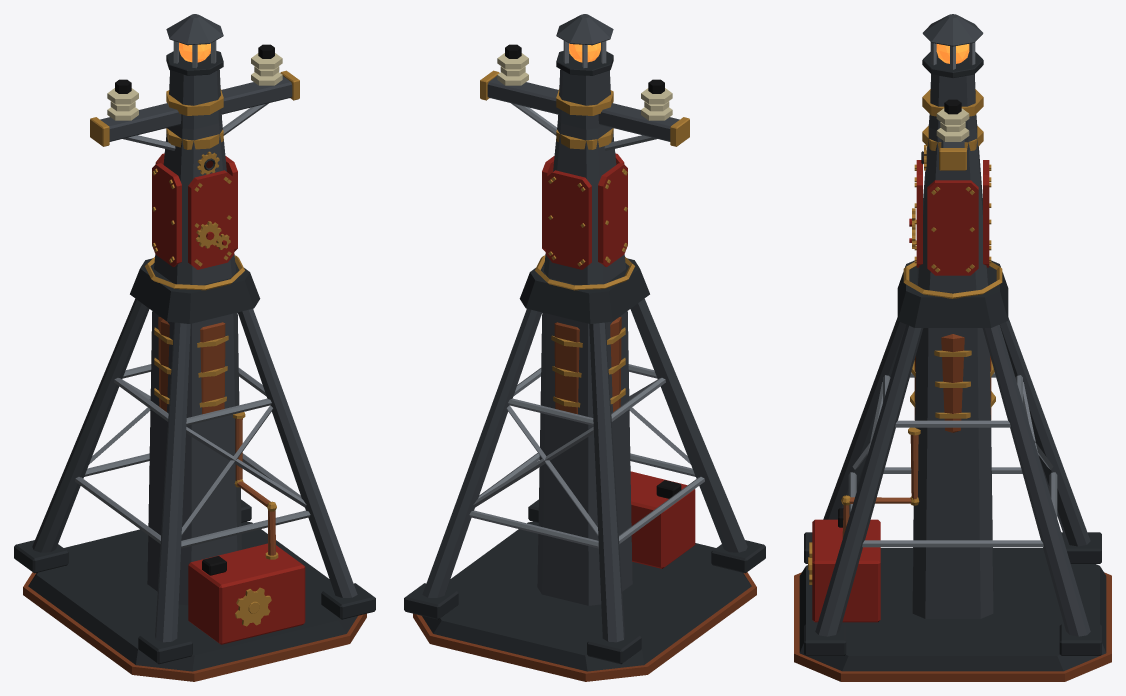
The model's file is env_cog_pylon.fbx.
The picture shows the model from 3 angles, left to right: view 1: azimuth 30°, elevation 25°; view 2: azimuth 150°, elevation 25°; view 3: azimuth 270°, elevation 25°; orthographic projection. The views are drawn at different scales.
Visible parts, largest first — view 1: Body, Dark, Plates, Trim; view 2: Body, Dark, Plates, Trim; view 3: Body, Dark, Plates, Trim.
Boxes of the visible parts, x1=… form: Body: x1=32, y1=14, x2=357, y2=642; Dark: x1=14, y1=44, x2=375, y2=671; Plates: x1=23, y1=153, x2=366, y2=681; Trim: x1=90, y1=53, x2=299, y2=626; Body: x1=422, y1=14, x2=747, y2=642; Dark: x1=404, y1=44, x2=765, y2=671; Plates: x1=413, y1=153, x2=756, y2=681; Trim: x1=480, y1=53, x2=689, y2=290; Body: x1=815, y1=14, x2=1090, y2=636; Dark: x1=799, y1=52, x2=1106, y2=671; Plates: x1=794, y1=160, x2=1111, y2=681; Trim: x1=808, y1=89, x2=1002, y2=584.
Bounding box in the file's own units: 6.54 × 15.72 × 7.46.
5 materials, 4 textured.
